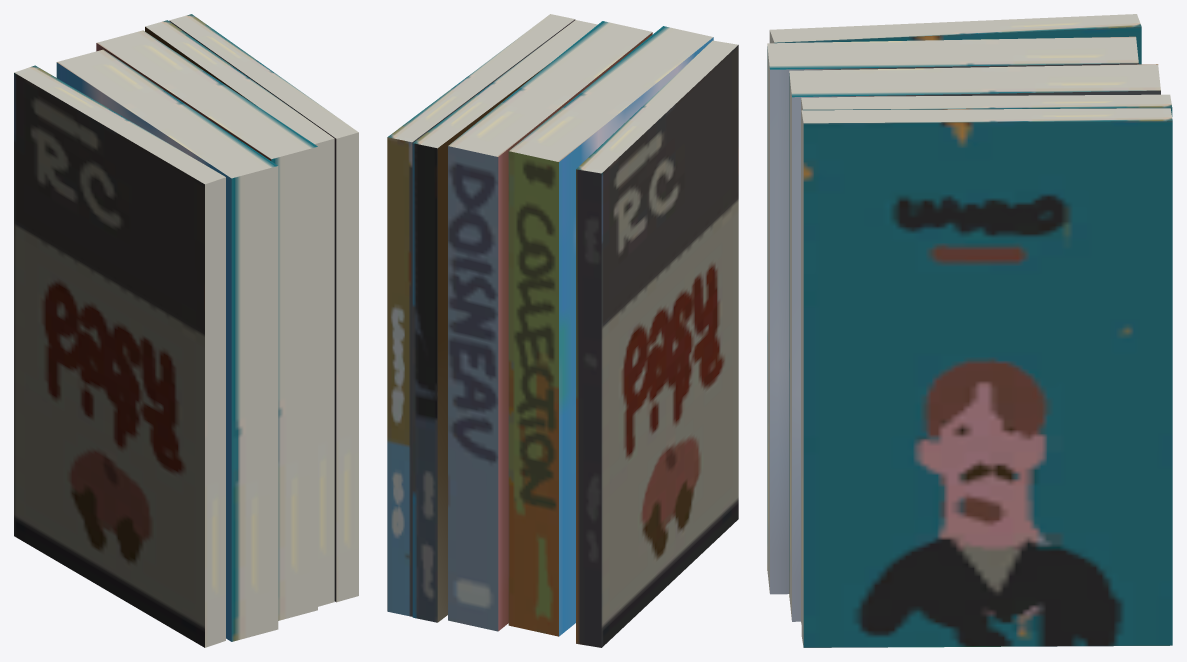
The model's file is Libros1_H1.obj.
3 views of the same model, side by side, from view 1: azimuth 30°, elevation 25°; view 2: azimuth 150°, elevation 25°; view 3: azimuth 270°, elevation 25° (orthographic). The views are drawn at different scales.
Parts seen in each view (by area): view 1: Libros1_H1; view 2: Libros1_H1; view 3: Libros1_H1.
Boxes of the visible parts, x1,y1,x2,y2 form: Libros1_H1: (14, 14, 358, 647); Libros1_H1: (387, 14, 738, 647); Libros1_H1: (767, 14, 1172, 647).
Size of the model in its own units: 0.0939 by 0.2109 by 0.1476.
1 material, 1 textured.
